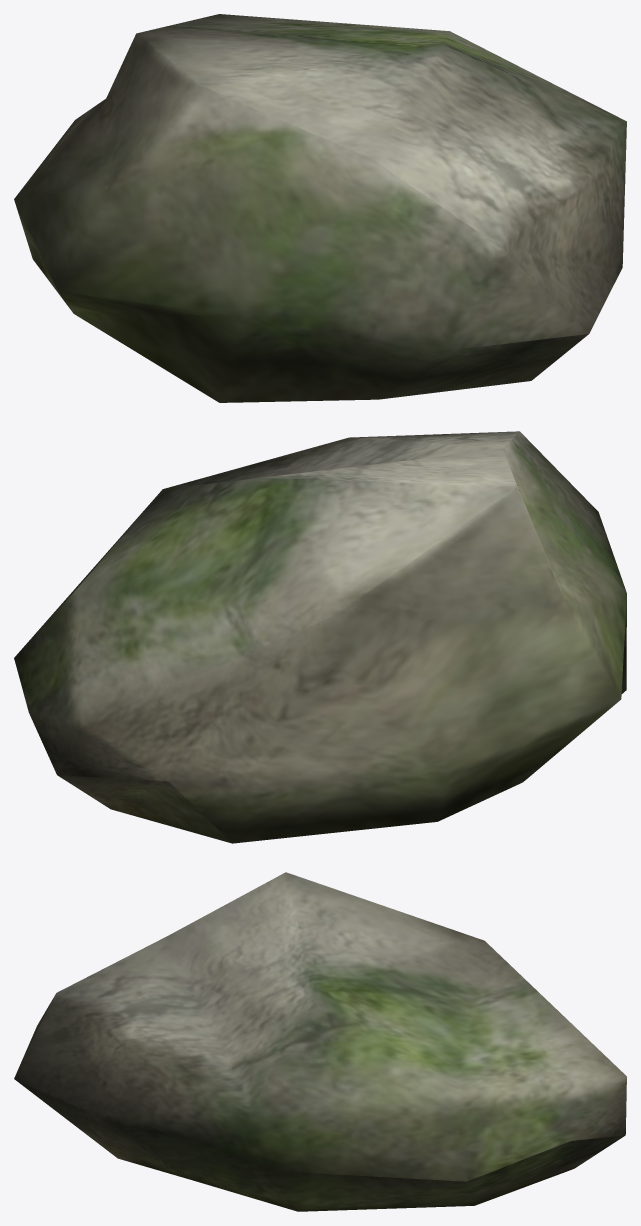
Rendered from zz_dont_use_rock_Dk_1F.fbx.
3 views of the same model, one above another, from view 1: azimuth 30°, elevation 25°; view 2: azimuth 150°, elevation 25°; view 3: azimuth 270°, elevation 25° (orthographic). The views are drawn at different scales.
Parts seen in each view (by area): view 1: rock_1; view 2: rock_1; view 3: rock_1.
Part boxes in pixels (x1,y1,x2,y2): rock_1: [14, 14, 626, 402]; rock_1: [14, 431, 626, 843]; rock_1: [14, 872, 626, 1211].
Size of the model in its own units: 522 by 280 by 661.
1 material, 1 textured.
